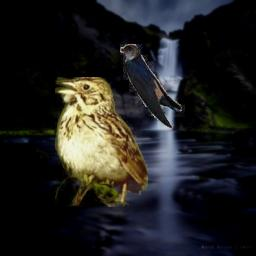Sparrow: (55, 77, 148, 207)
Swallow: (120, 44, 202, 133)
